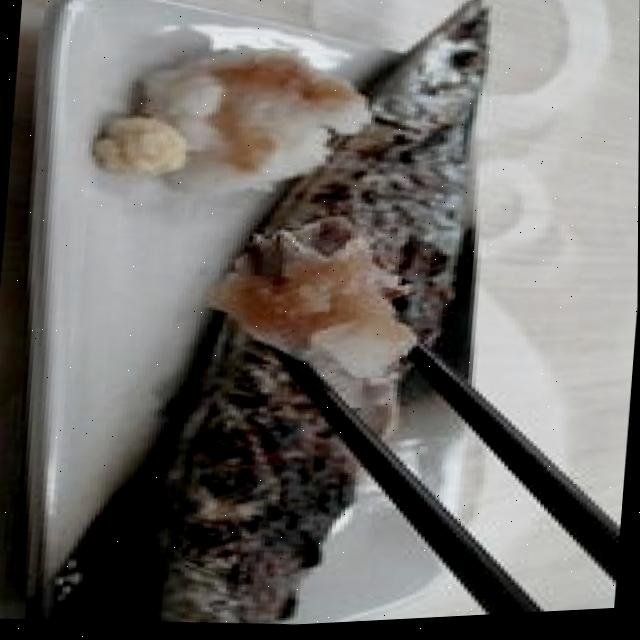熟制海鲜: (25, 0, 544, 639)
